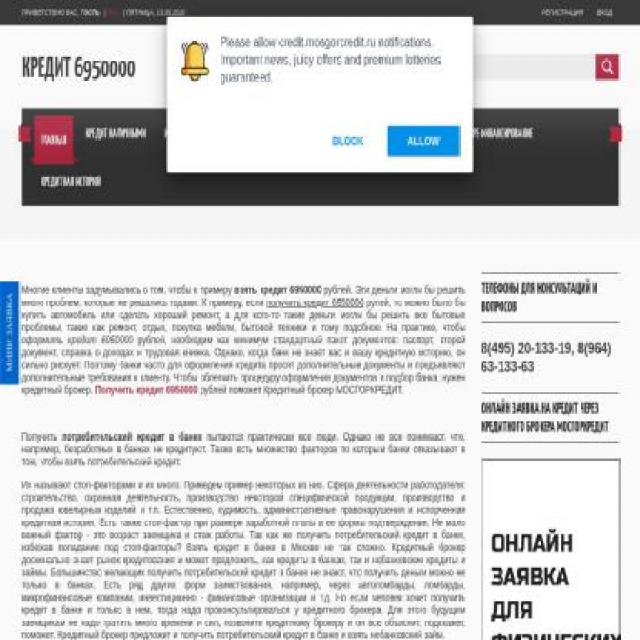button: (21, 50, 136, 84), (78, 109, 152, 158), (466, 109, 540, 158), (34, 157, 106, 206), (330, 109, 398, 158), (258, 109, 324, 158), (402, 109, 461, 158), (202, 109, 252, 158), (310, 125, 385, 156), (387, 125, 459, 156), (33, 109, 73, 158), (158, 109, 196, 158), (536, 0, 590, 25), (591, 0, 618, 25)
field: (451, 55, 595, 79), (595, 55, 619, 79)
